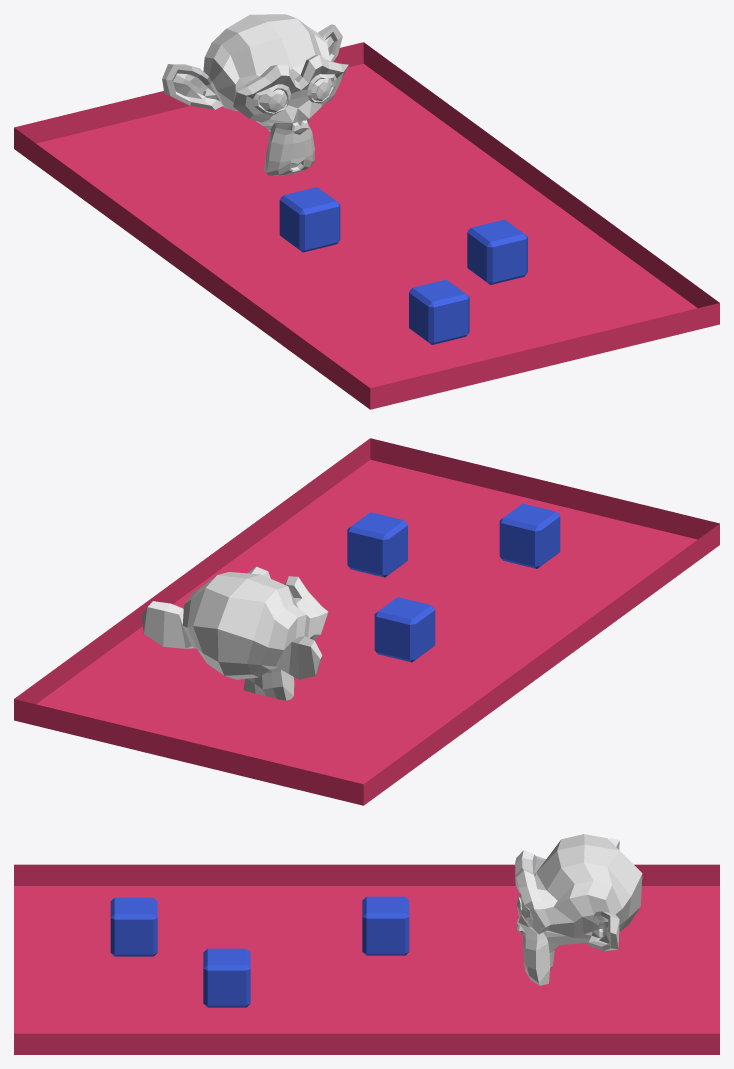
The model's file is texturebaking.glb.
3 views of the same model, one above another, from view 1: azimuth 30°, elevation 25°; view 2: azimuth 150°, elevation 25°; view 3: azimuth 270°, elevation 25° (orthographic).
Visible parts, largest first — view 1: Plane, Monkey, Cube01, Cube02, Cube03; view 2: Plane, Monkey, Cube01, Cube03, Cube02; view 3: Plane, Monkey, Cube02, Cube03, Cube01.
Part boxes in pixels (x1,y1,x2,y2): Plane: (14, 42, 719, 409); Monkey: (162, 14, 348, 175); Cube01: (279, 187, 340, 252); Cube02: (467, 219, 527, 284); Cube03: (409, 279, 469, 344); Plane: (14, 438, 719, 805); Monkey: (141, 566, 328, 700); Cube01: (374, 597, 435, 662); Cube03: (499, 503, 560, 568); Cube02: (347, 512, 407, 577); Plane: (14, 864, 719, 1054); Monkey: (515, 834, 642, 985); Cube02: (203, 948, 250, 1007); Cube03: (110, 897, 157, 956); Cube01: (362, 896, 409, 955).
Size of the model in its own units: 17 by 6.26 by 30.
